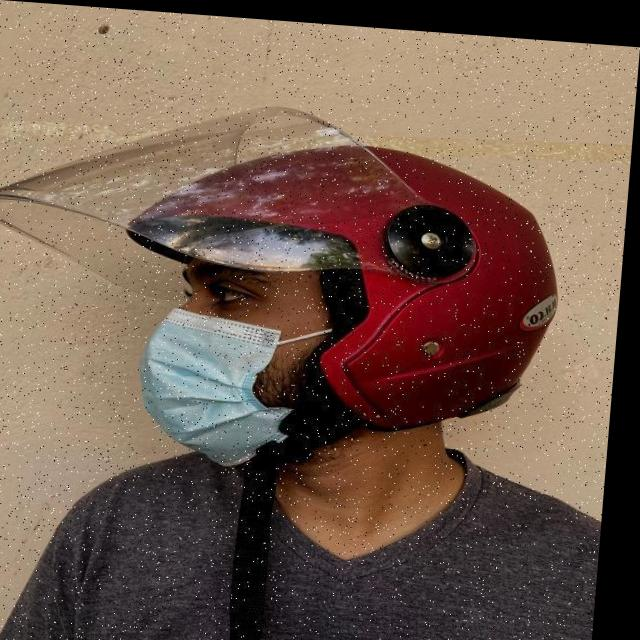helmet: (0, 82, 577, 640)
